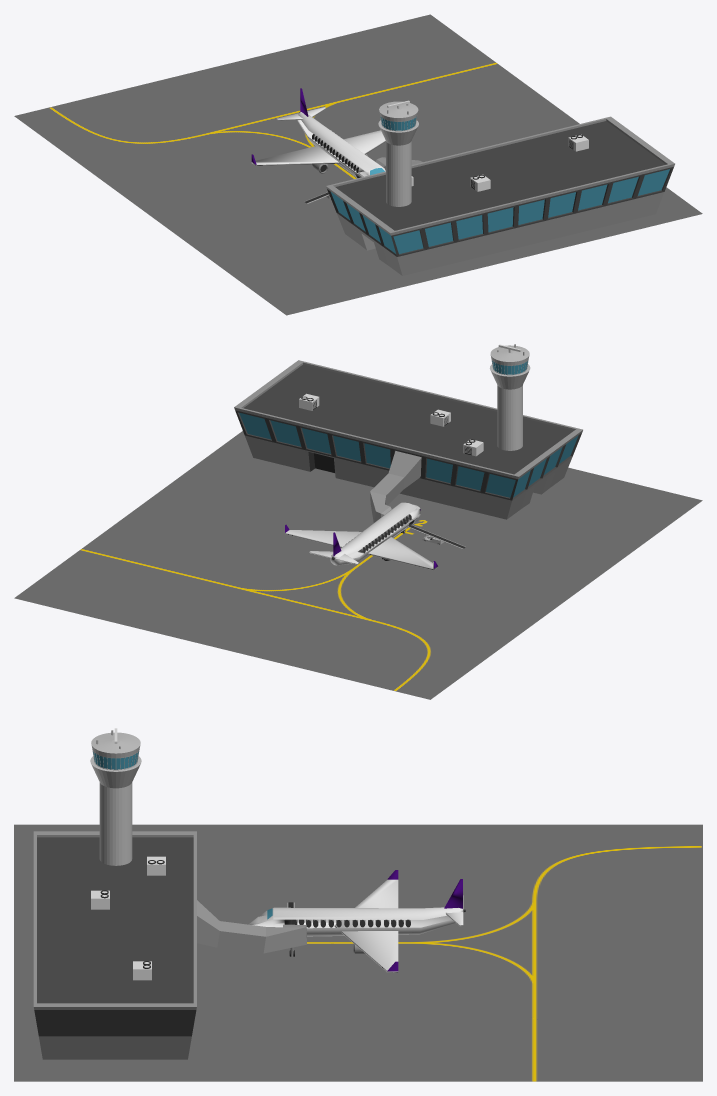
File: scene.ff4dff5e.glb
The picture shows the model from 3 angles, top to bottom: view 1: azimuth 30°, elevation 25°; view 2: azimuth 150°, elevation 25°; view 3: azimuth 270°, elevation 25°; orthographic projection. The views are drawn at different scales.
Parts seen in each view (by area): view 1: Plane, AirportTerminal, AirportTerminal.002, AirportControlTower; view 2: Plane, AirportTerminal, AirportTerminal.002, AirportControlTower; view 3: Plane, AirportTerminal, AirportTerminal.002, AirportControlTower.
Boxes of the visible parts, left/top/right/bottom form: Plane: left=14, top=14, right=702, bottom=315; AirportTerminal: left=326, top=116, right=674, bottom=275; AirportTerminal.002: left=251, top=88, right=385, bottom=178; AirportControlTower: left=378, top=101, right=418, bottom=206; Plane: left=14, top=431, right=702, bottom=699; AirportTerminal: left=234, top=360, right=582, bottom=522; AirportTerminal.002: left=285, top=502, right=438, bottom=570; AirportControlTower: left=489, top=344, right=530, bottom=450; Plane: left=14, top=824, right=702, bottom=1081; AirportTerminal: left=33, top=831, right=306, bottom=1059; AirportTerminal.002: left=248, top=870, right=465, bottom=972; AirportControlTower: left=90, top=730, right=141, bottom=865.
Size of what is drawn, in the model's own units: 8.39 by 2.85 by 9.51.
15 materials, 1 textured.
